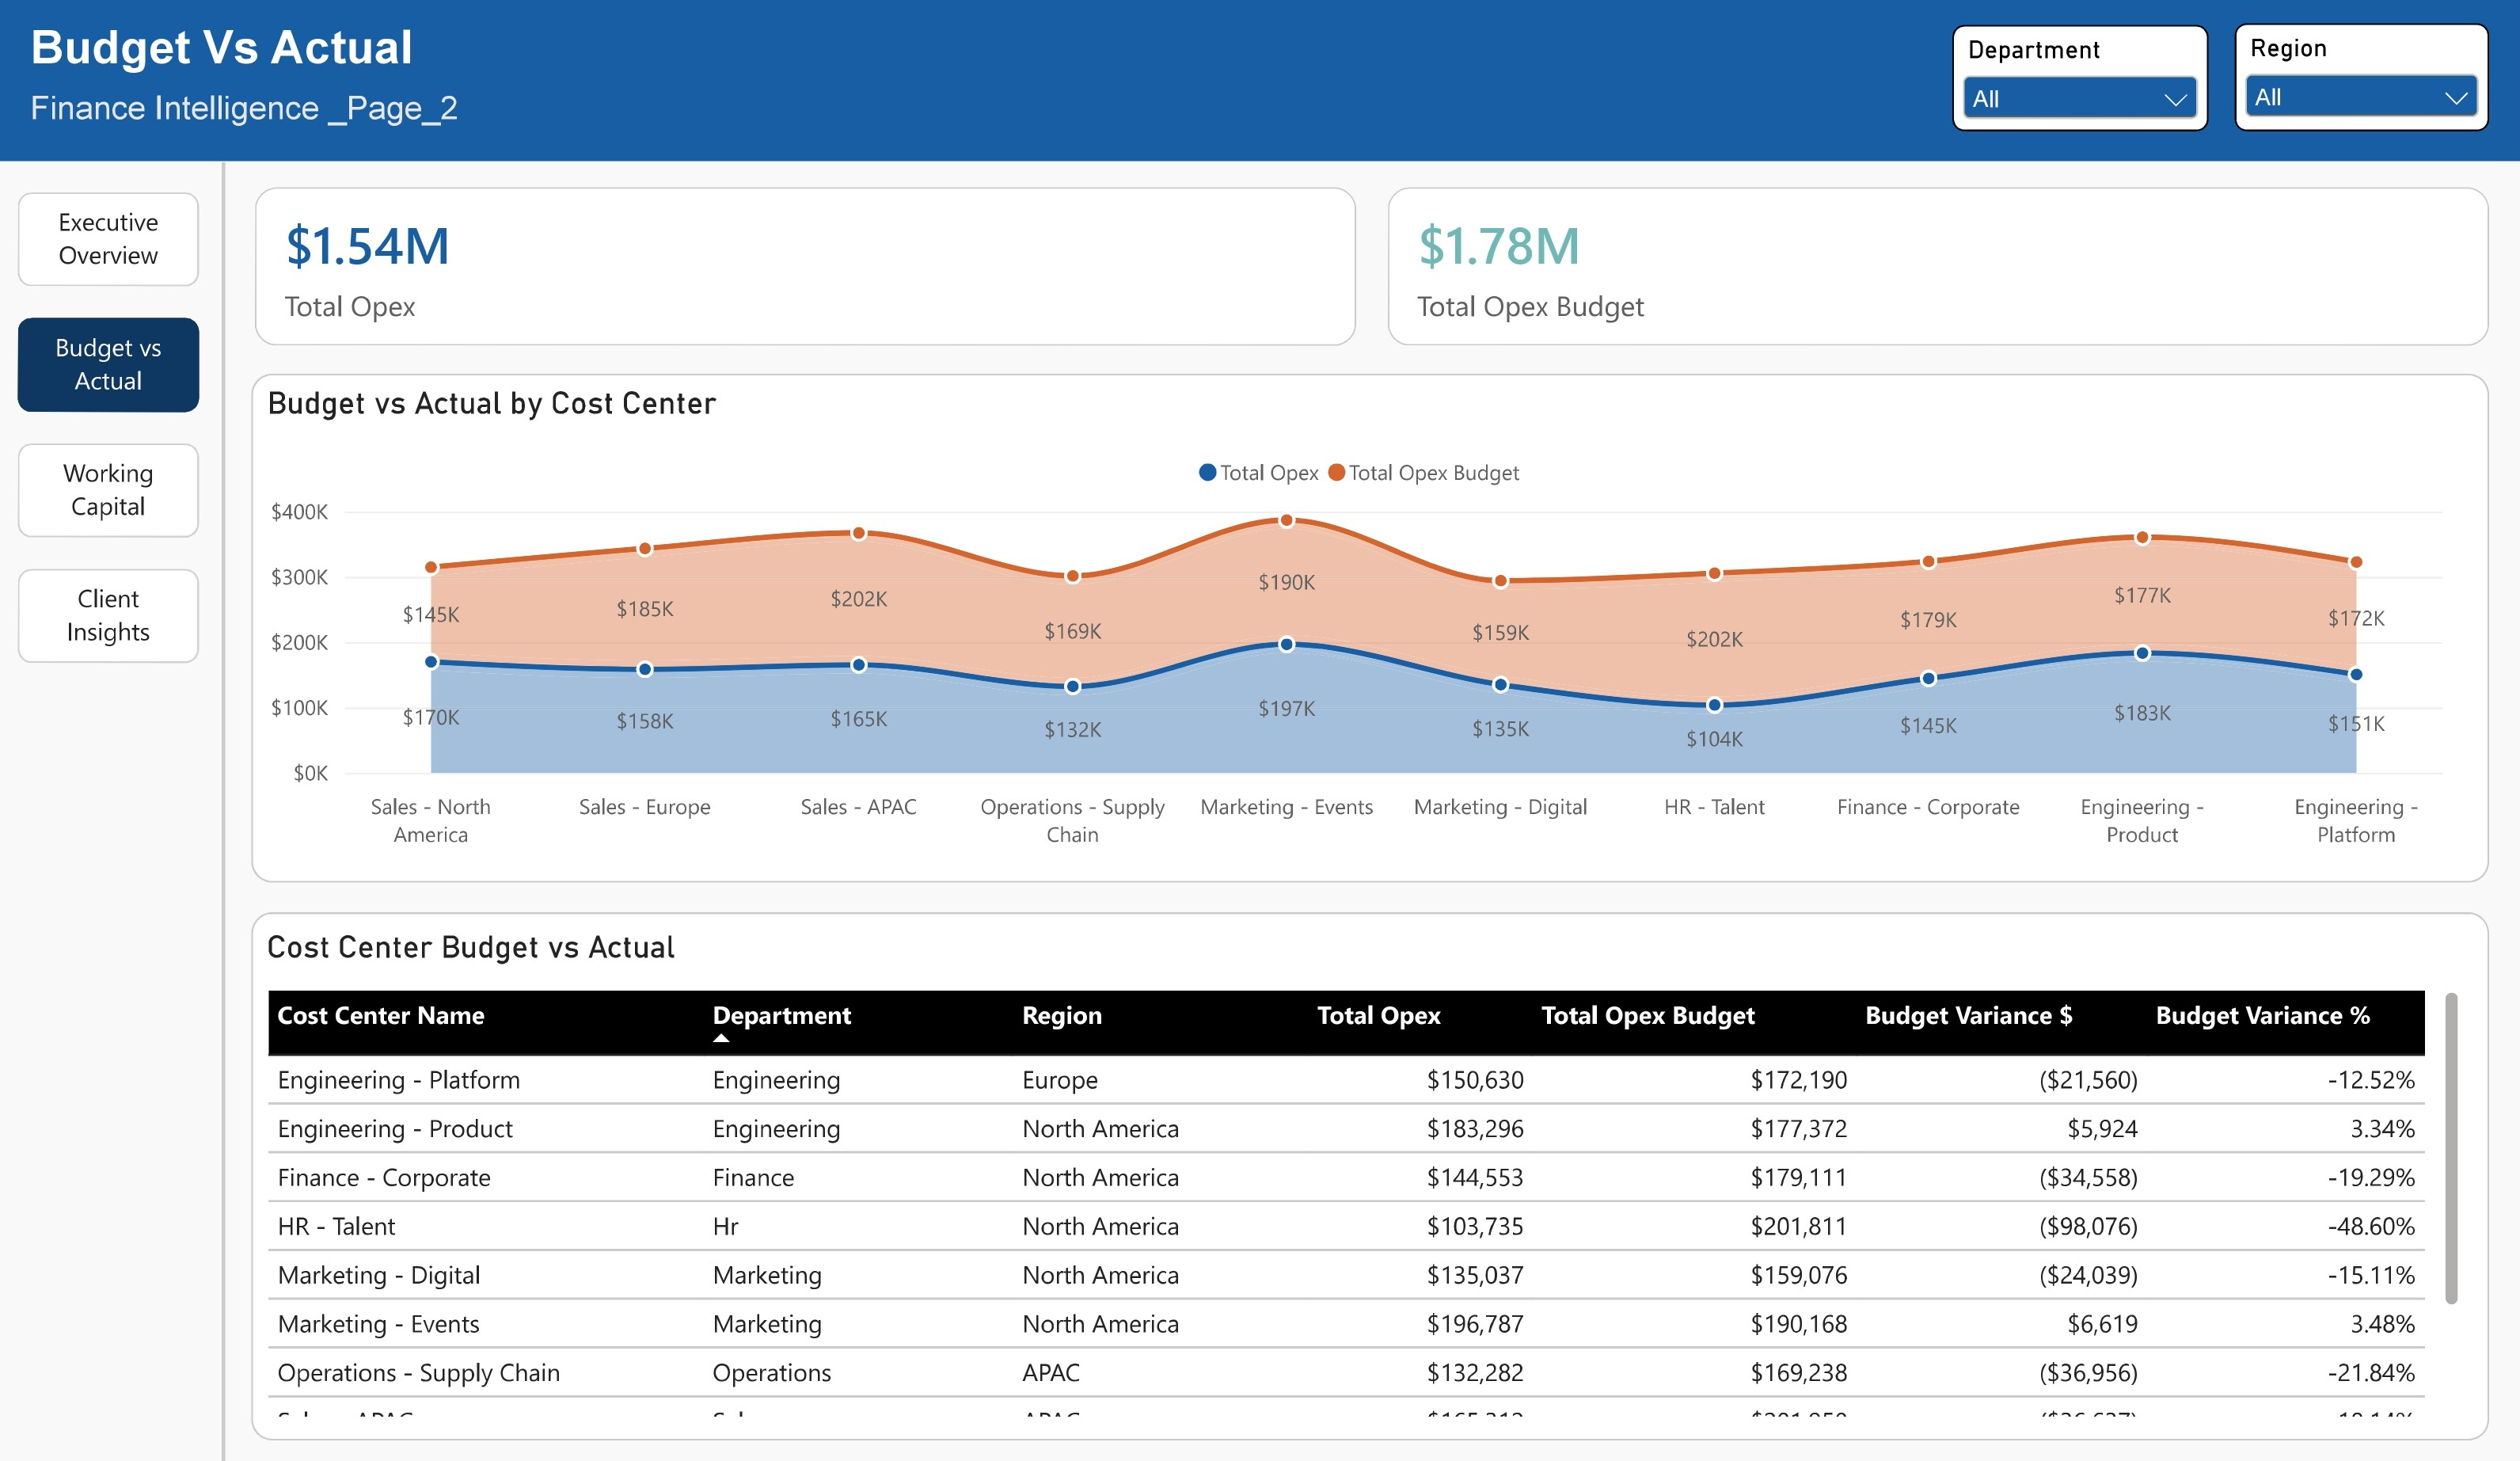

What the dashboard file says about the page in this screenshot:
{"tool":"powerbi","page":{"name":"Budget vs Actual","canvas":[1450,847],"ordinal":1},"visuals":[{"type":"shape","box":[0,0,1450,96],"z":0},{"type":"waterfallChart","fields":{"Category":["PnL_Lines.LineItem"],"Y":["_Measures.PnL Value"]},"box":[380,888.3,295,191.7],"z":1000},{"type":"stackedAreaChart","title":"Budget vs Actual by Cost Center","fields":{"Category":["Dim_CostCenter.CostCenterName"],"Y":["_Measures.Total Opex","_Measures.Total Opex Budget"]},"box":[148.2,217.9,1284,292],"z":2000},{"type":"textbox","box":[21.4,16.1,548.2,50],"z":3000},{"type":"textbox","box":[21.4,55.4,430.4,44.6],"z":4000},{"type":"slicer","fields":{"Values":["Dim_CostCenter.Department"]},"box":[1124.2,17.7,146.7,61.7],"z":5000},{"type":"slicer","fields":{"Values":["Dim_CostCenter.Region"]},"box":[1285.9,17.5,146,62],"z":6000},{"type":"cardVisual","fields":{"Data":["_Measures.Total Opex","_Measures.Total Opex Budget"]},"box":[149.5,111.2,1282.4,90.3],"z":8000},{"type":"tableEx","title":"Cost Center Budget vs Actual","fields":{"Values":["Dim_CostCenter.CostCenterName","Dim_CostCenter.Department","Dim_CostCenter.Region","_Measures.Total Opex","_Measures.Total Opex Budget","_Measures.Budget Variance $","_Measures.Budget Variance %"]},"box":[148.5,526.5,1283.3,303.3],"z":8002},{"type":"pageNavigator","box":[13.8,114.3,104.3,270],"z":8003},{"type":"shape","box":[117.4,96.6,30,750.4],"z":8004}]}

Visuals, with their boxes in screenshot pixels (x1, y1, x2, y2), scaled from the page's 1450x847 canvas onto the 2520x1461 screenshot:
shape: l=0, t=0, r=2519, b=166
"Budget vs Actual by Cost Center" stackedAreaChart: l=257, t=376, r=2489, b=880
textbox: l=37, t=28, r=990, b=114
textbox: l=37, t=96, r=785, b=173
slicer - Dim_CostCenter.Department: l=1954, t=31, r=2209, b=137
slicer - Dim_CostCenter.Region: l=2235, t=30, r=2488, b=137
cardVisual - _Measures.Total Opex x _Measures.Total Opex Budget: l=260, t=192, r=2488, b=348
"Cost Center Budget vs Actual" tableEx: l=258, t=908, r=2488, b=1432
pageNavigator: l=24, t=197, r=205, b=663
shape: l=204, t=166, r=257, b=1460
